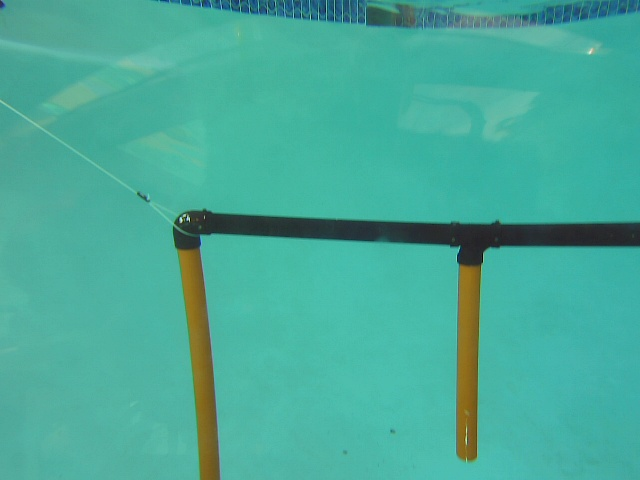Gate: (170, 241, 224, 480), (452, 255, 484, 463)
